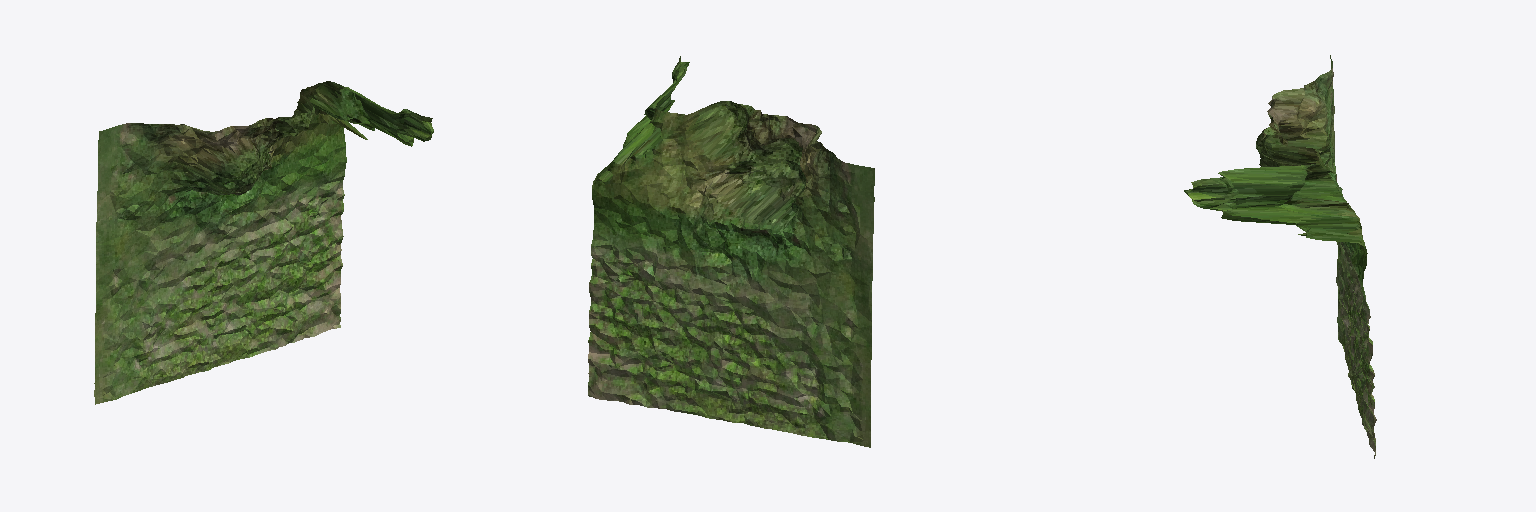
3 views of the same model, side by side, from view 1: azimuth 30°, elevation 25°; view 2: azimuth 150°, elevation 25°; view 3: azimuth 270°, elevation 25° (orthographic).
Parts seen in each view (by area): view 1: grp1; view 2: grp1; view 3: grp1.
Part boxes in pixels (x1,y1,x2,y2): grp1: (94,81,433,404); grp1: (588,56,874,447); grp1: (1184,55,1376,458).
Bounding box in the file's own units: 10 × 10 × 6.35.
Materials: 1 (1 with a texture image).